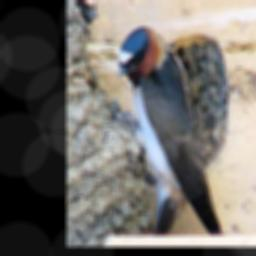Swallow: (118, 24, 229, 233)
